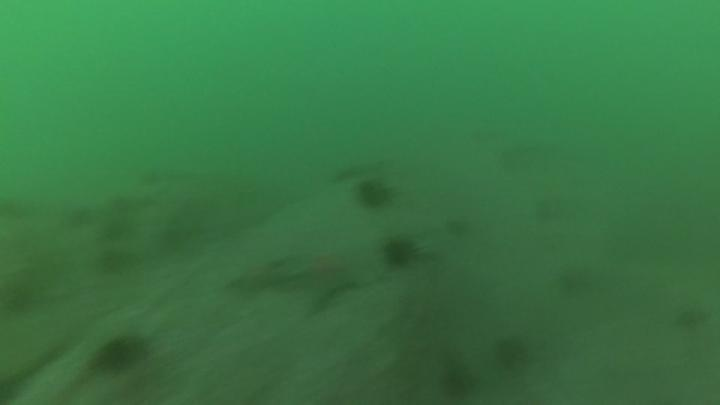echinus: (92, 332, 150, 375), (436, 362, 478, 402), (554, 261, 597, 300), (491, 333, 531, 373), (1, 277, 38, 318), (380, 234, 420, 271), (353, 176, 394, 212), (671, 302, 711, 335), (95, 246, 133, 278), (64, 203, 96, 232), (442, 214, 473, 241)
starfish: (281, 244, 370, 314), (224, 253, 295, 297)
